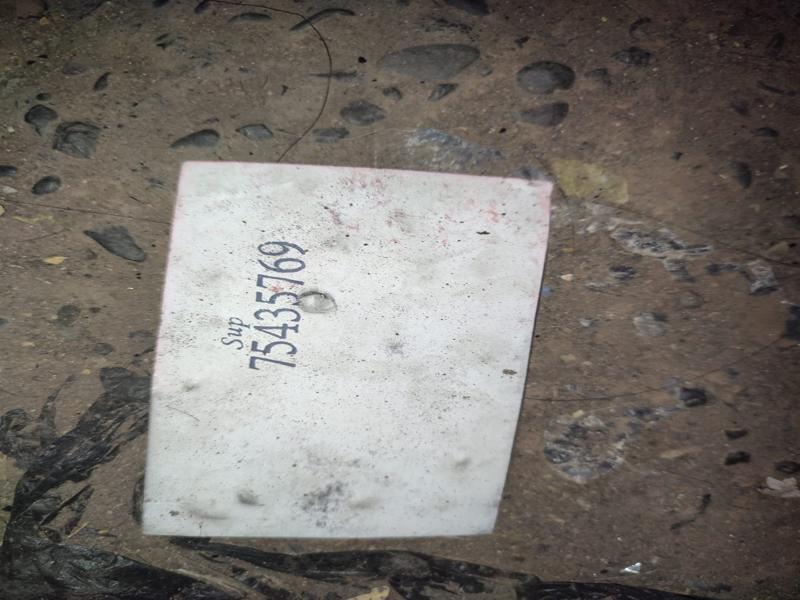papel: (137, 162, 554, 545)
